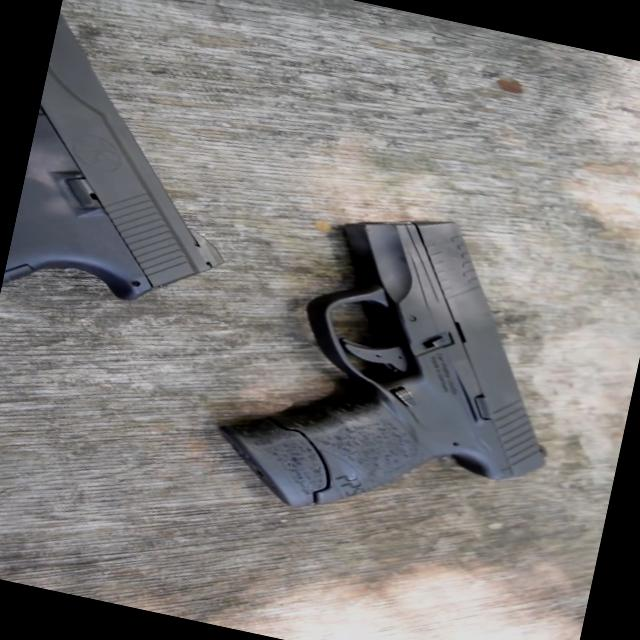handgun: (204, 150, 586, 561)
